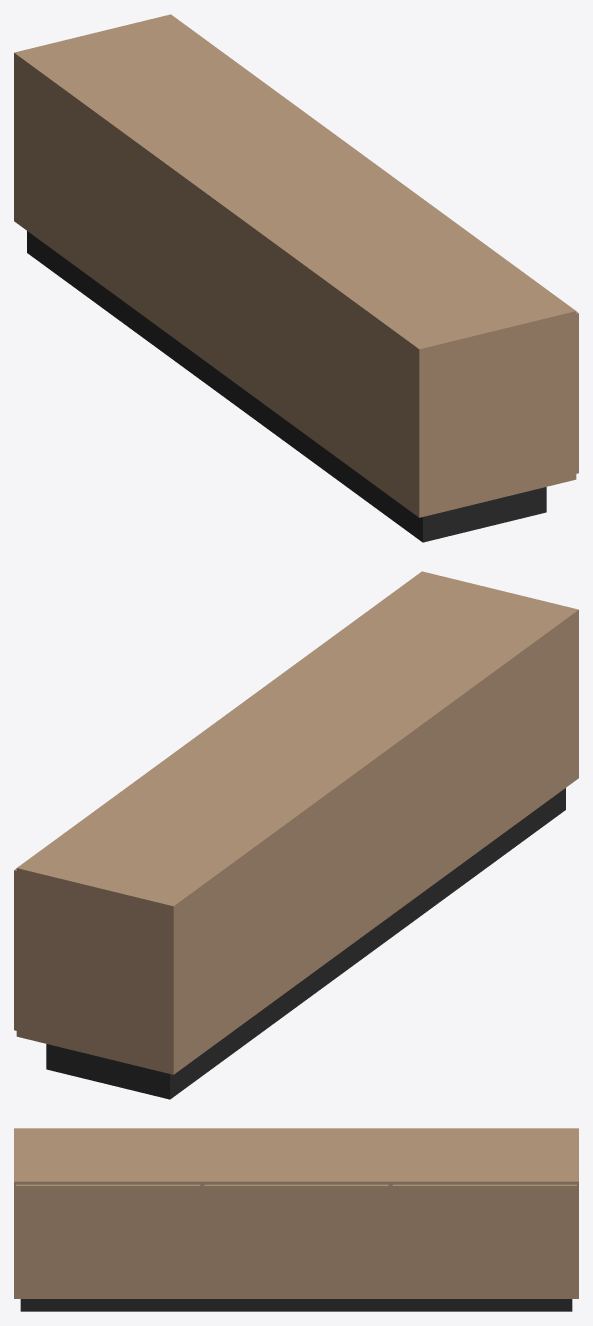
The model's file is SM_TV_Unit.fbx.
3 views of the same model, one above another, from view 1: azimuth 30°, elevation 25°; view 2: azimuth 150°, elevation 25°; view 3: azimuth 270°, elevation 25° (orthographic). The views are drawn at different scales.
Visible parts, largest first — view 1: SM_TV_Unit; view 2: SM_TV_Unit; view 3: SM_TV_Unit.
Boxes of the visible parts, <box> form: SM_TV_Unit: <box>14,14,578,542</box>; SM_TV_Unit: <box>14,571,578,1099</box>; SM_TV_Unit: <box>14,1128,578,1311</box>.
Bounding box in the file's own units: 39 × 46 × 170.
